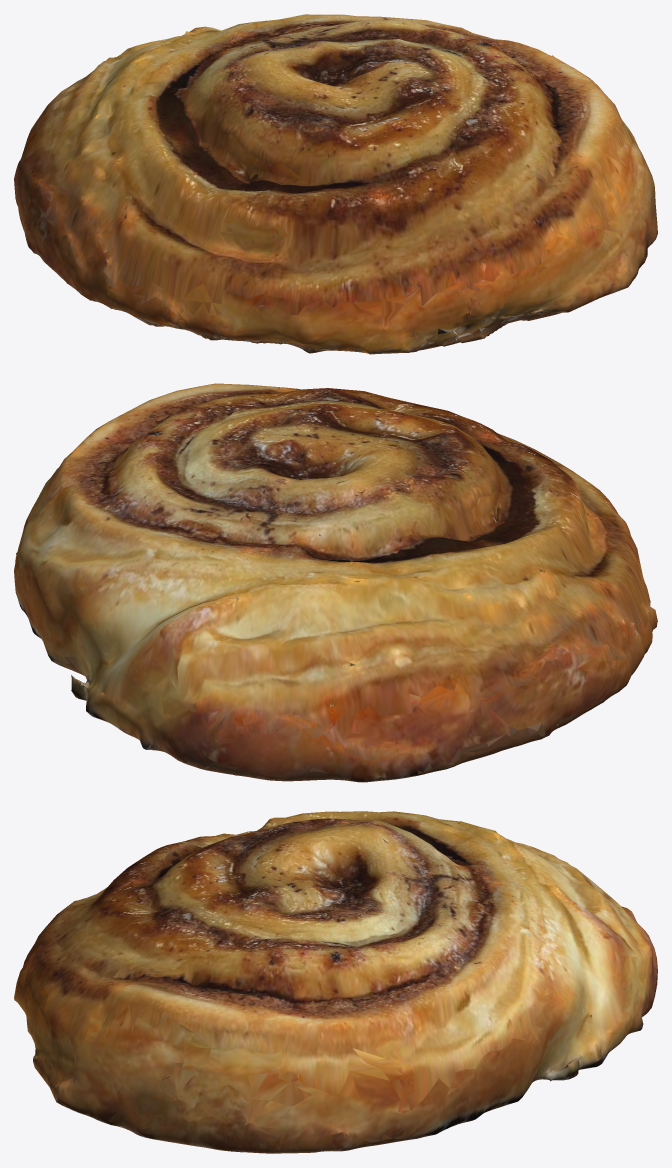
The model's file is cinnamon_9124.obj.
3 views of the same model, one above another, from view 1: azimuth 30°, elevation 25°; view 2: azimuth 150°, elevation 25°; view 3: azimuth 270°, elevation 25° (orthographic). The views are drawn at different scales.
Size of the model in its own units: 110 by 33.98 by 115.
1 material, 1 textured.
